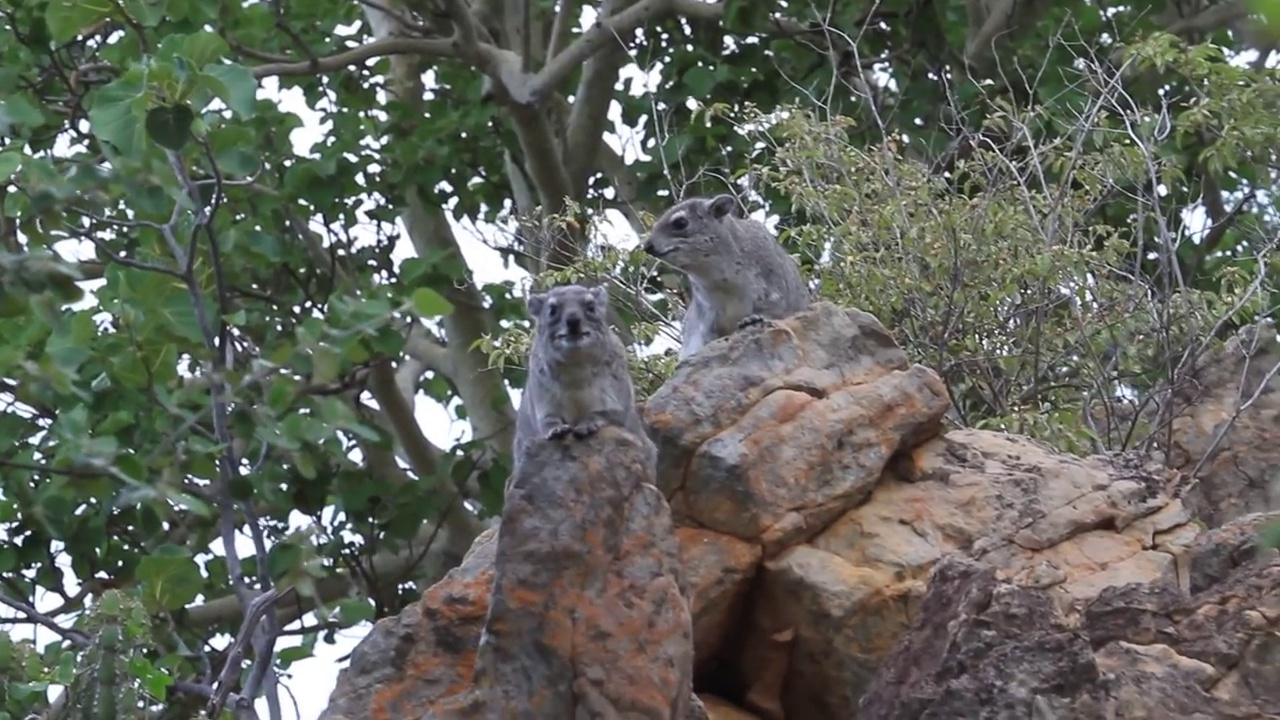Rock Hyrex: (508, 285, 653, 491), (641, 189, 814, 359)
